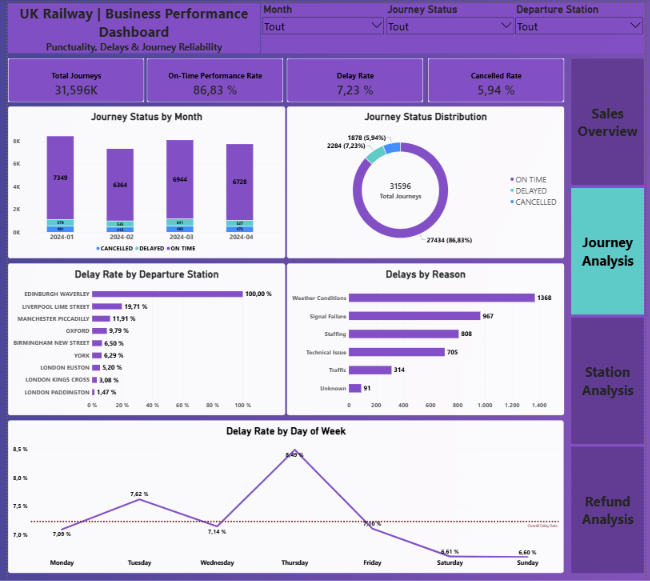

What the dashboard file says about the page in this screenshot:
{"tool":"powerbi","page":{"name":"Journey Analysis","canvas":[2200,2000],"ordinal":1},"visuals":[{"type":"cardVisual","fields":{"Data":["Measure_Table.Total Journeys"]},"box":[0,192.5,470,150],"z":0},{"type":"cardVisual","fields":{"Data":["Measure_Table.On-Time Performance Rate"]},"box":[480,192.5,470,150],"z":1000},{"type":"cardVisual","fields":{"Data":["Measure_Table.Delay Rate"]},"box":[962.5,192.5,470,150],"z":2000},{"type":"cardVisual","fields":{"Data":["Measure_Table.Cancelled Rate"]},"box":[1450,192.5,470,150],"z":3000},{"type":"columnChart","title":"Journey Status by Month","fields":{"Category":["gold dim_purchase_date.Year_Month"],"Series":["gold fact_sales.Journey_Status"],"Y":["Measure_Table.Total Journeys"]},"box":[0,360,957.5,525],"z":4000},{"type":"donutChart","title":"Journey Status Distribution","fields":{"Category":["gold fact_sales.Journey_Status"],"Y":["Measure_Table.Total Journeys"]},"box":[962.5,360,957.5,525],"z":5000},{"type":"clusteredBarChart","title":"Delays by Reason","fields":{"Category":["gold fact_sales.Delay_Reason"],"Y":["Measure_Table.Total Journeys"]},"box":[962.5,902.5,957.5,525],"z":6000},{"type":"slicer","fields":{"Values":["gold dim_purchase_date.Year_Month"]},"box":[872.5,2.5,430,172.5],"z":7000},{"type":"textbox","box":[0,2.6,870.3,172],"z":8000},{"type":"slicer","fields":{"Values":["gold fact_sales.Journey_Status"]},"box":[1302.5,2.5,450,172.5],"z":9000},{"type":"slicer","fields":{"Values":["gold dim_departure_stations.Departure_Station_Name"]},"box":[1750,2.5,450,172.5],"z":10000},{"type":"pageNavigator","box":[1946.7,193.3,253.3,1780],"z":11000},{"type":"clusteredBarChart","title":"Delay Rate by Departure Station","fields":{"Category":["gold dim_departure_stations.Departure_Station_Name"],"Y":["Measure_Table.Delay Rate"]},"box":[0,902.5,957.5,525],"z":12000},{"type":"lineChart","title":"Delay Rate by Day of Week","fields":{"Category":["gold dim_journey_date.Day_Name"],"Y":["Measure_Table.Delay Rate"]},"box":[0,1445,1920,527.5],"z":13000}]}

Visuals, with their boxes in screenshot pixels (x1, y1, x2, y2), scaled from the page's 2200x2000 canvas onto the 650x581 screenshot:
cardVisual - Measure_Table.Total Journeys: detection(0, 56, 139, 99)
cardVisual - Measure_Table.On-Time Performance Rate: detection(142, 56, 281, 99)
cardVisual - Measure_Table.Delay Rate: detection(284, 56, 423, 99)
cardVisual - Measure_Table.Cancelled Rate: detection(428, 56, 567, 99)
"Journey Status by Month" columnChart: detection(0, 105, 283, 257)
"Journey Status Distribution" donutChart: detection(284, 105, 567, 257)
"Delays by Reason" clusteredBarChart: detection(284, 262, 567, 415)
slicer - gold dim_purchase_date.Year_Month: detection(258, 1, 385, 51)
textbox: detection(0, 1, 257, 51)
slicer - gold fact_sales.Journey_Status: detection(385, 1, 518, 51)
slicer - gold dim_departure_stations.Departure_Station_Name: detection(517, 1, 649, 51)
pageNavigator: detection(575, 56, 649, 573)
"Delay Rate by Departure Station" clusteredBarChart: detection(0, 262, 283, 415)
"Delay Rate by Day of Week" lineChart: detection(0, 420, 567, 573)
